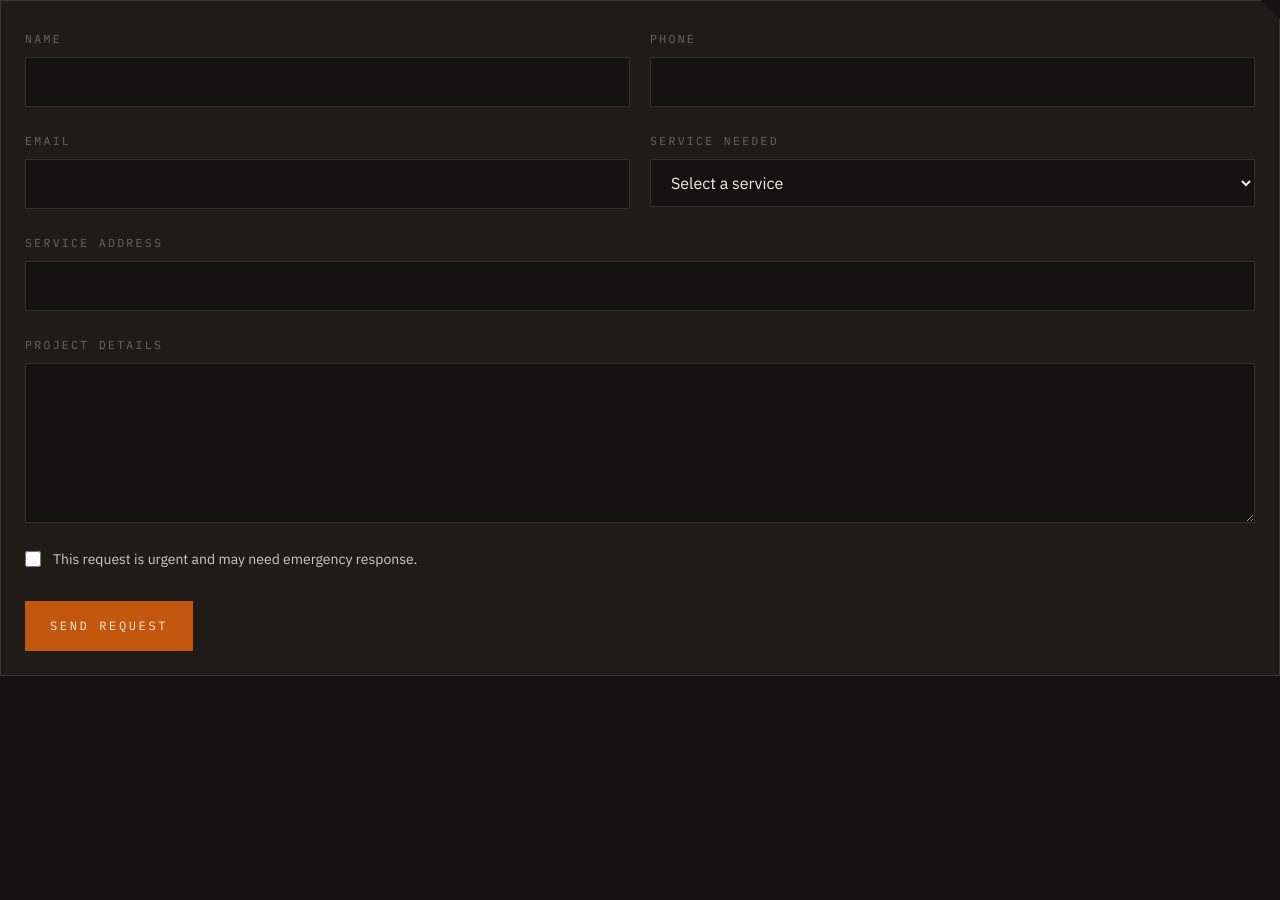
Test: QuoteRequestForm › posts the expected payload and shows a success message
In the field labelled "Name": [328, 82] box [25, 57, 630, 107], type "Taylor Sparks"
In the field labelled "Phone": [952, 82] box [650, 57, 1255, 107], type "555-0100"
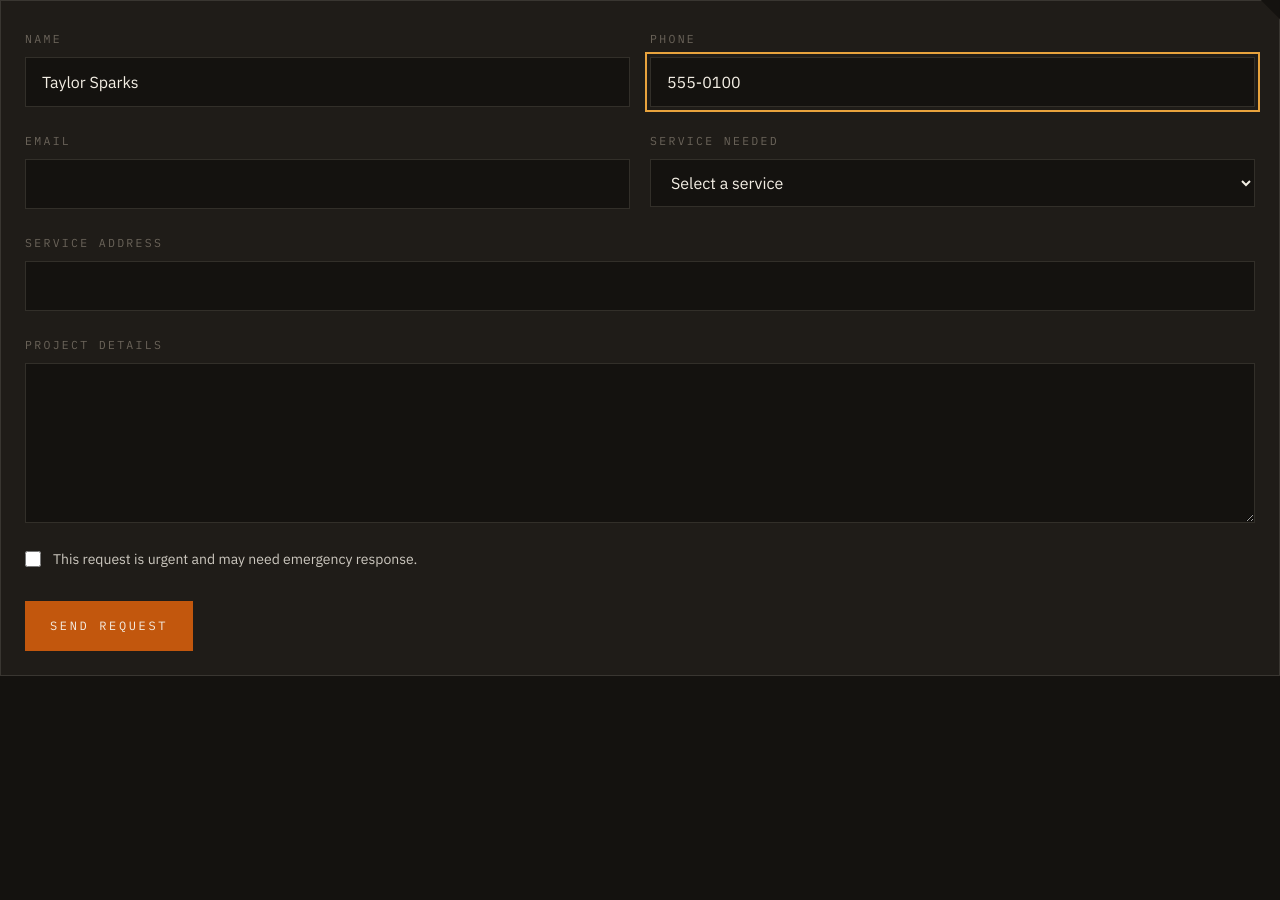
In the field labelled "Email": [328, 184] box [25, 159, 630, 209], type "taylor@example.com"
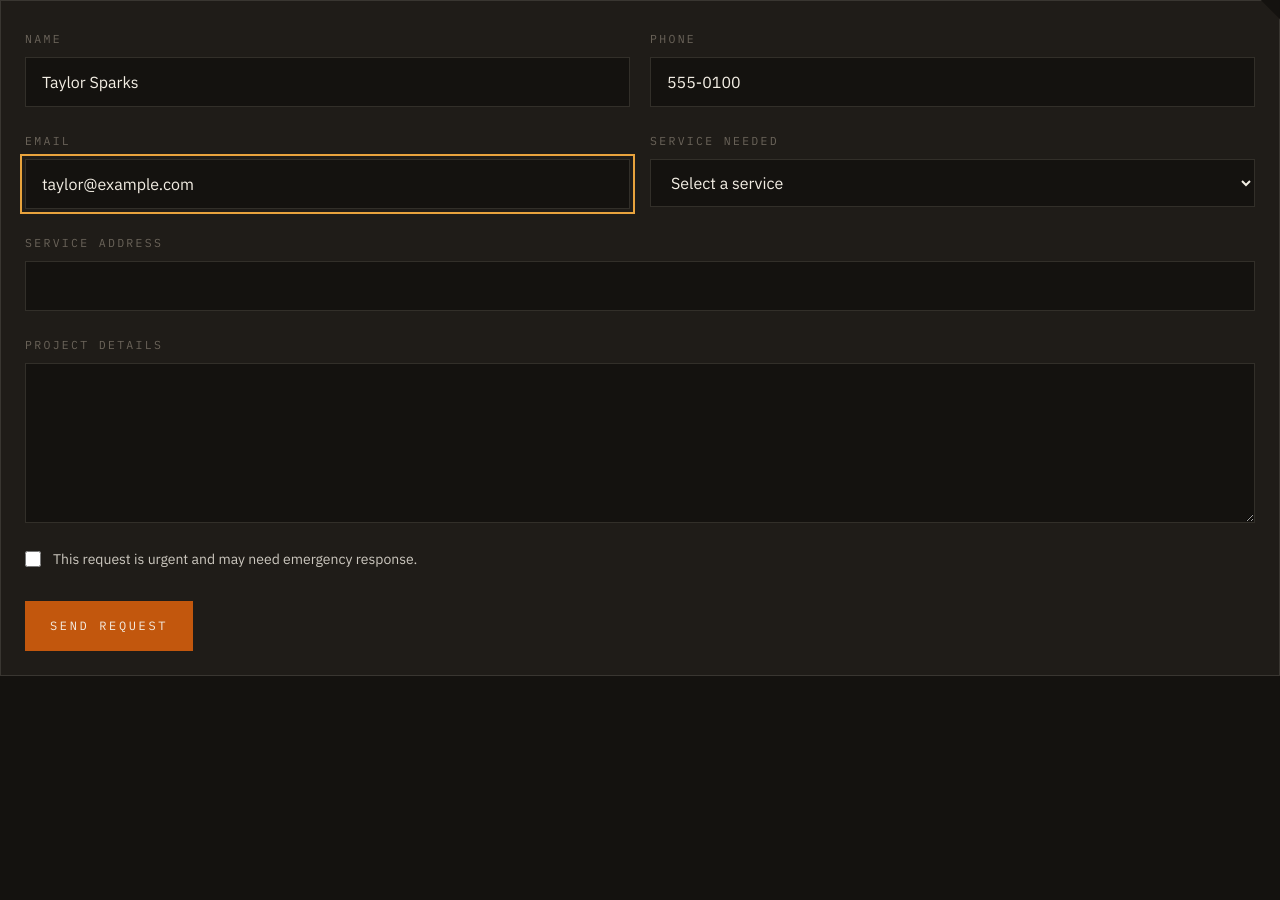
Select "Panel Upgrades" in the dropdown labelled "Service needed": [952, 183] box [650, 159, 1255, 207]
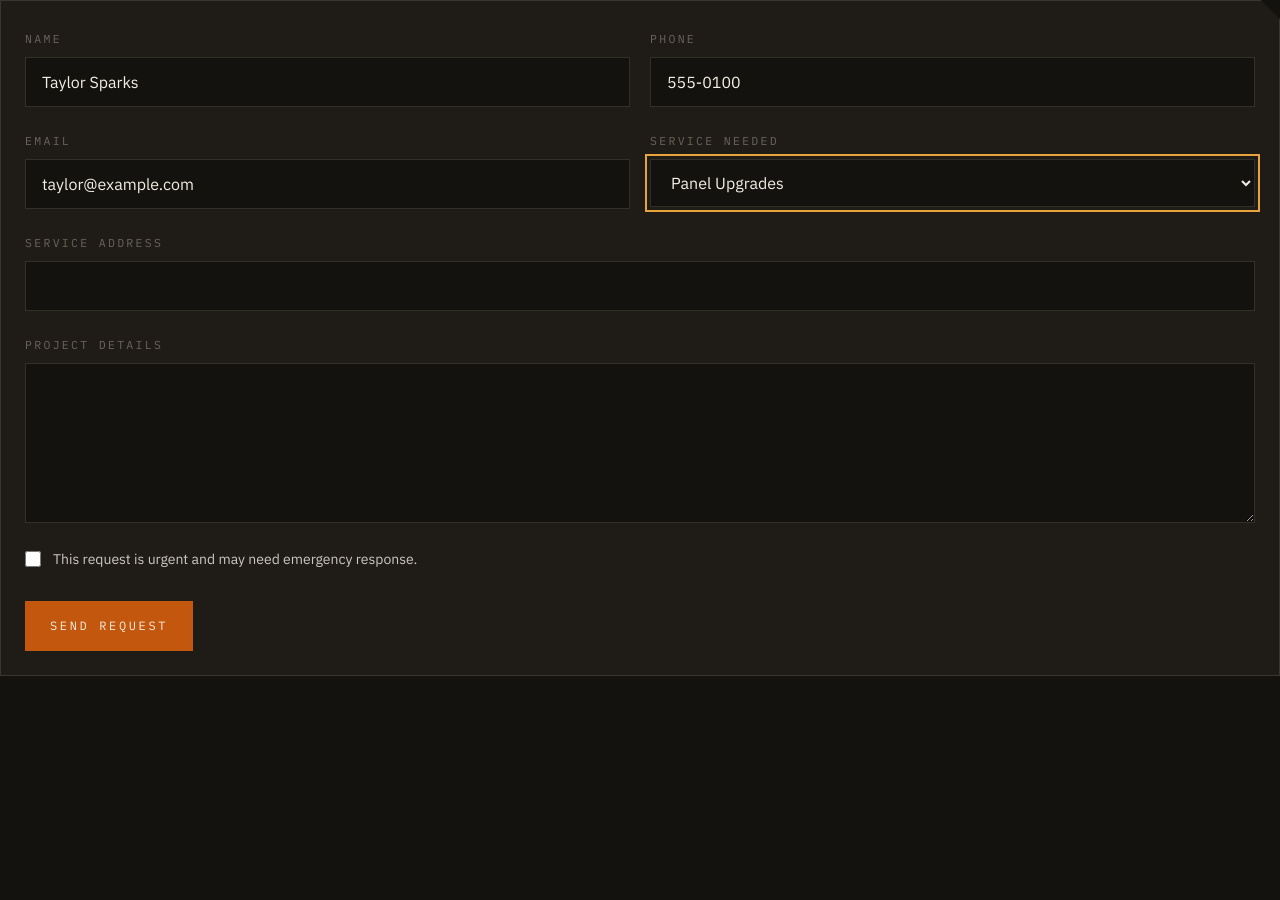
In the field labelled "Service address": [640, 286] box [25, 261, 1255, 311], type "123 Main Street"
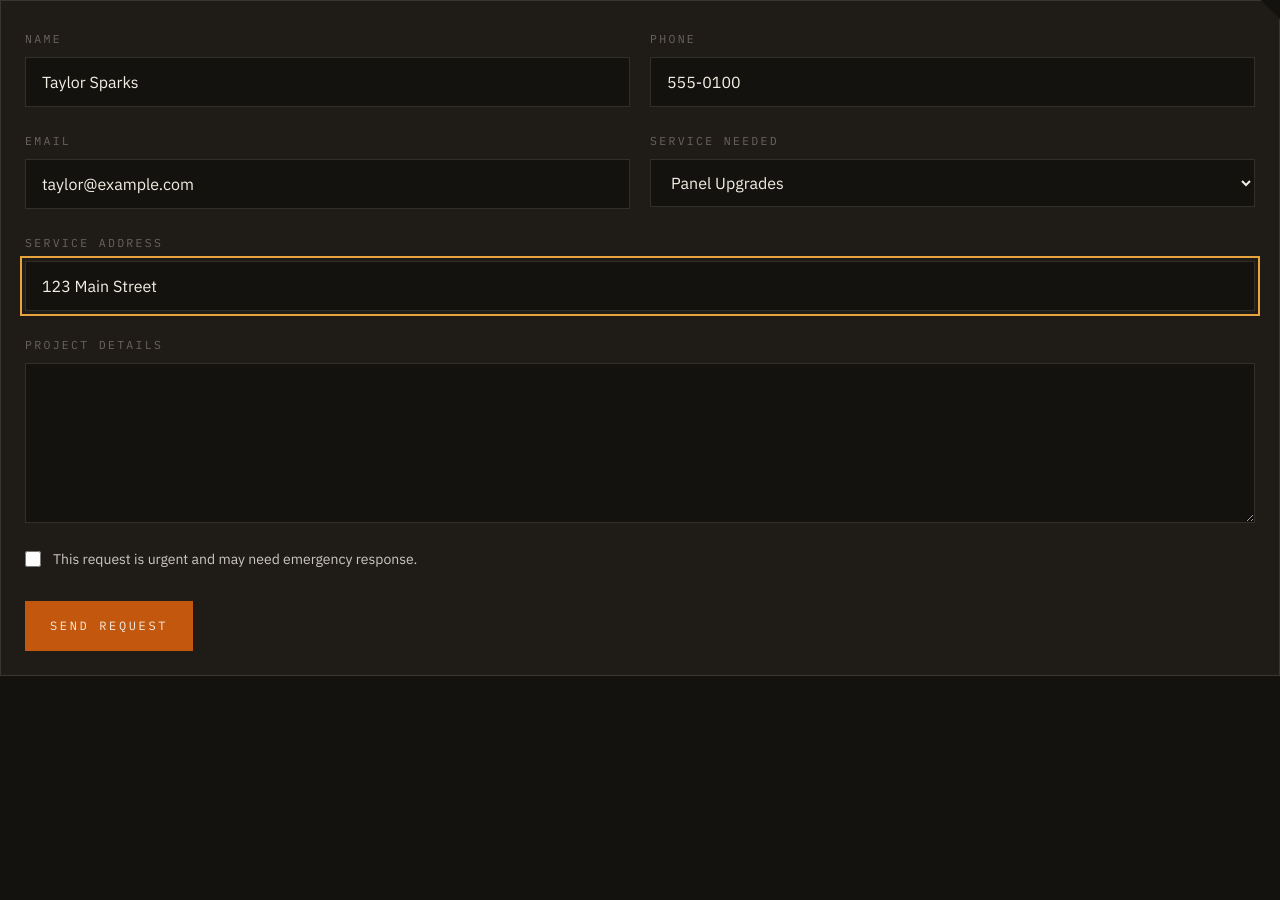
In the text box labelled "Project details": [640, 443] box [25, 363, 1255, 523], type "Replace outdated panel and breakers."
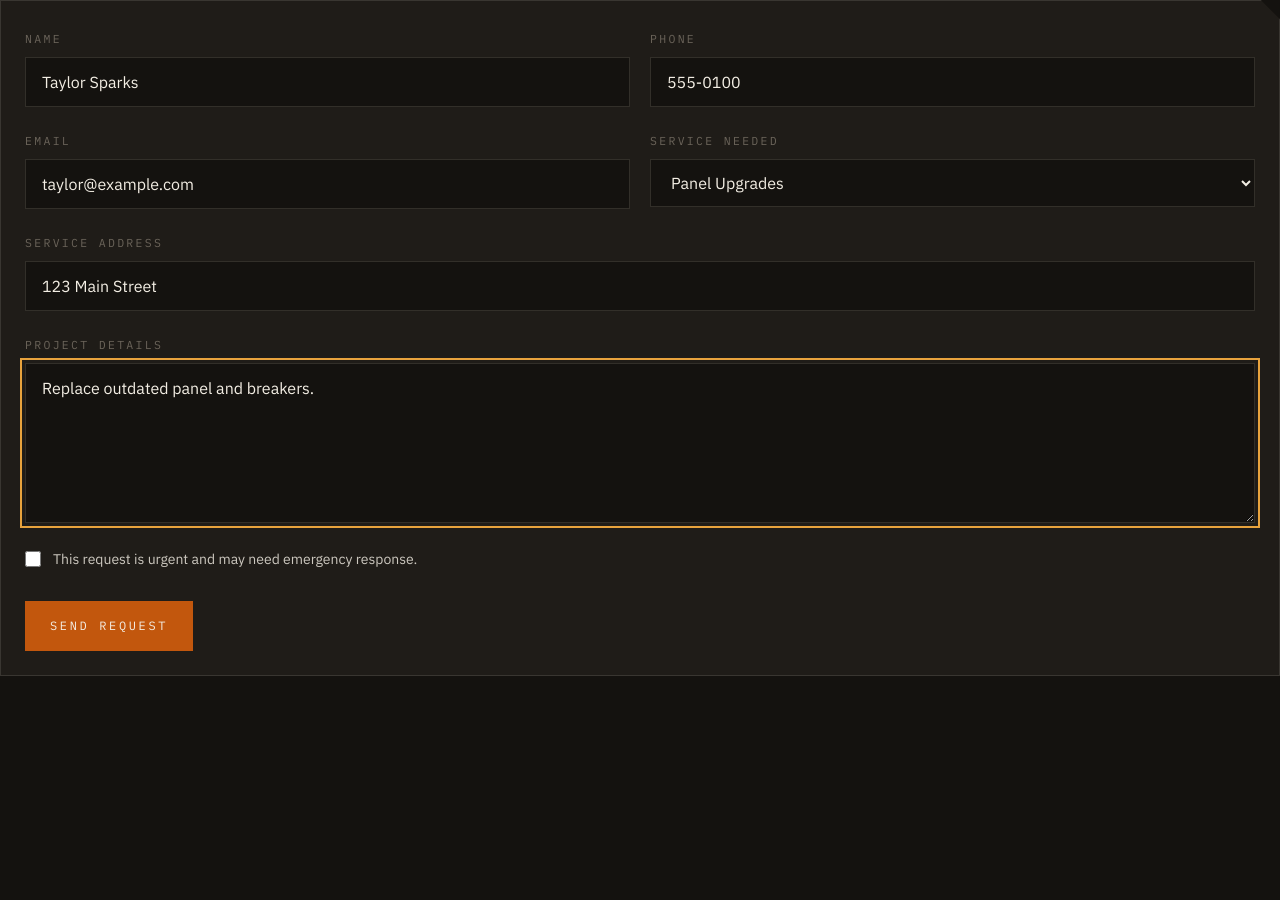
Click the button "Send request": [109, 626] box [25, 601, 193, 651]
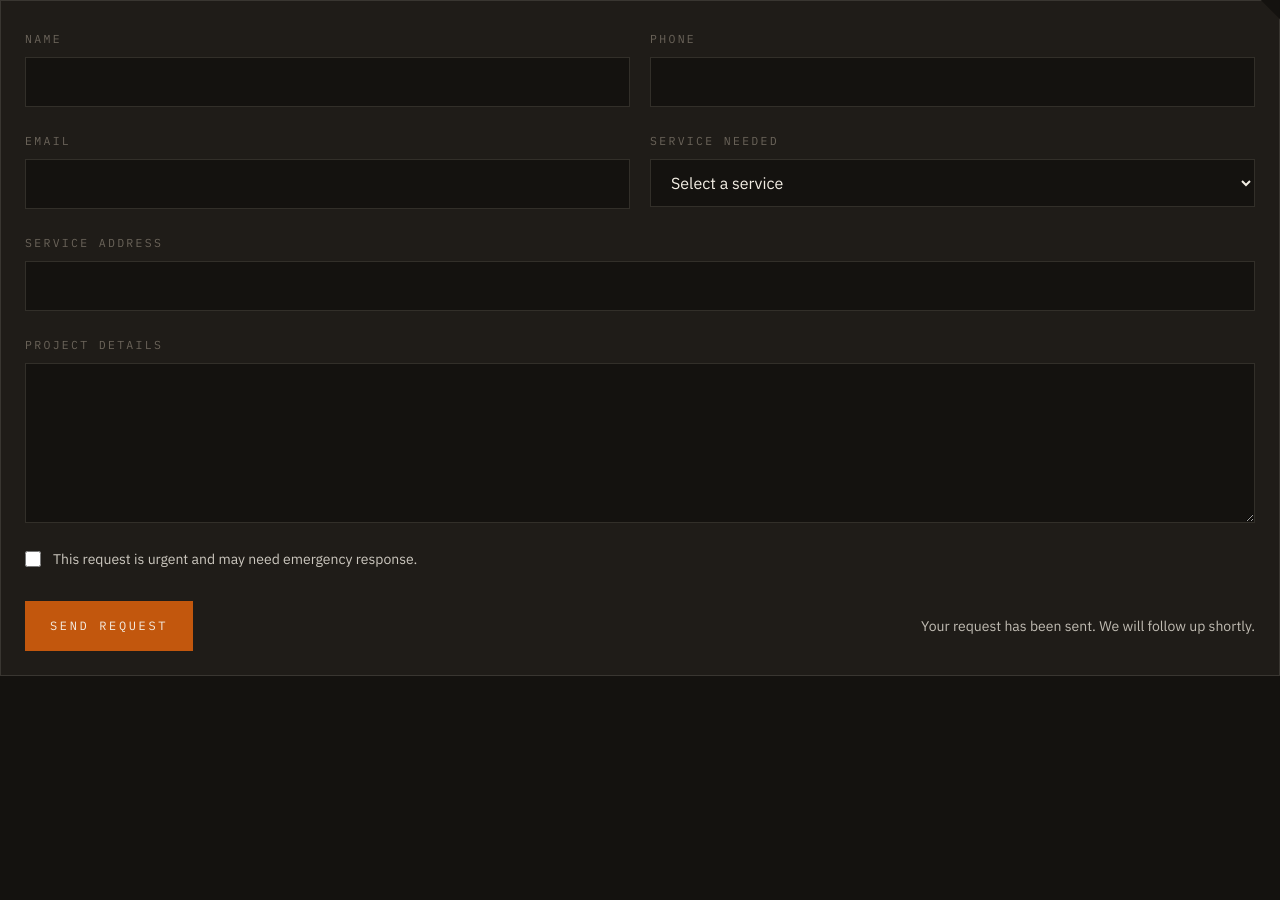
Result: the text "Your request has been sent. We will follow up shortly." is shown at [921, 616, 1255, 636]
